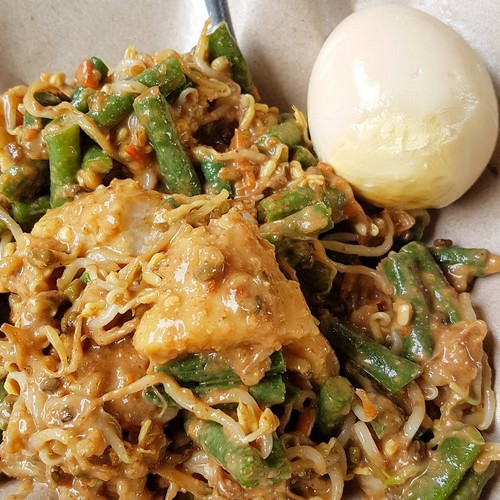tipat cantok: (10, 27, 473, 488)
